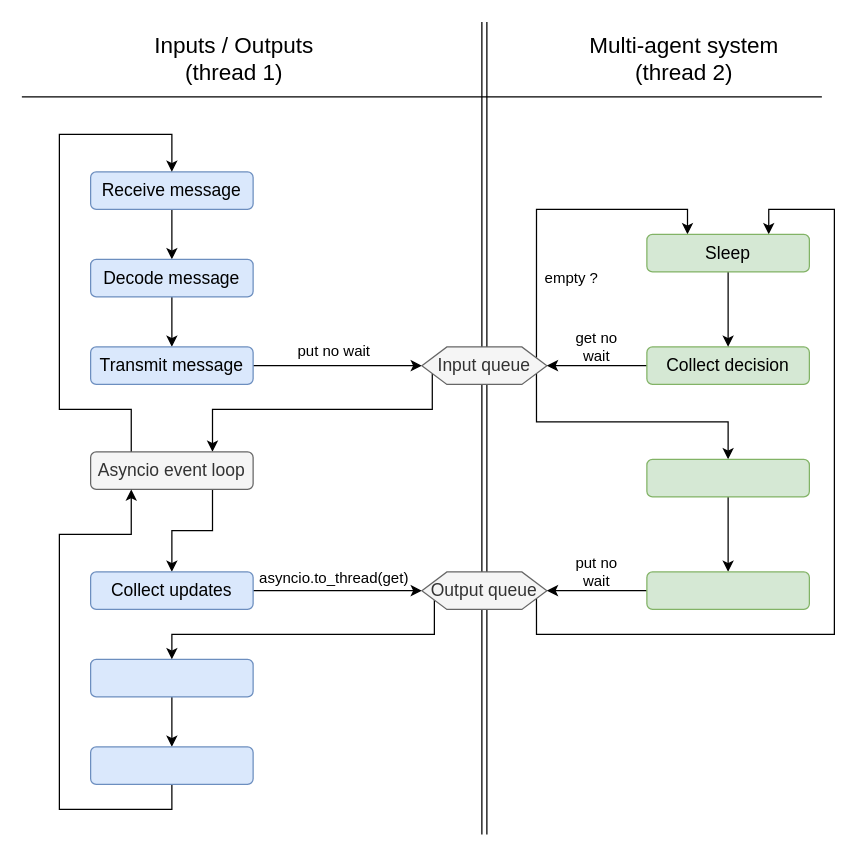
Image size: 866x856. Some labels were removed from this diagram. Each missing label, with the box of its shape:
Encode message: (89, 658, 253, 697)
Send message: (89, 746, 253, 784)
Simulate: (646, 458, 809, 497)
Transmit updates: (646, 571, 809, 609)
